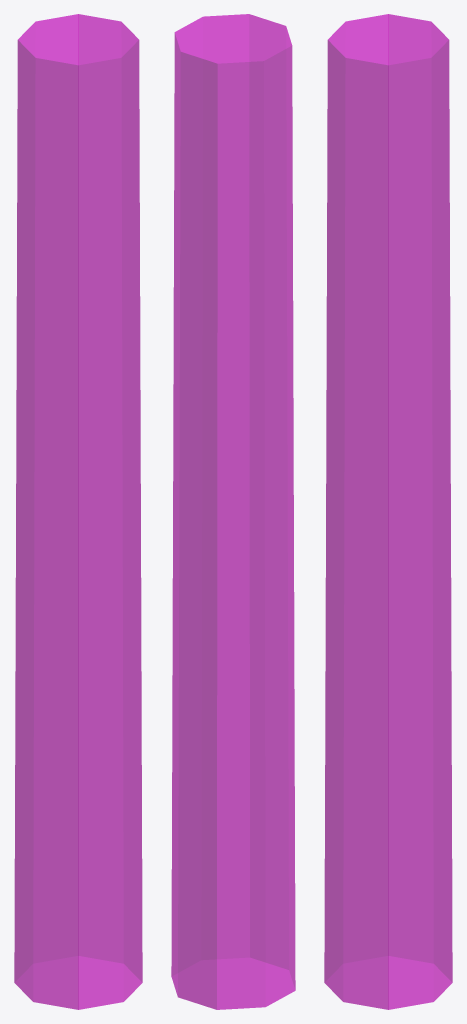
Rendered from SM_Veh_Ship_L_Mast_Back_02_Base_01_Collision.fbx.
3 views of the same model, side by side, from view 1: azimuth 90°, elevation 25°; view 2: azimuth 210°, elevation 25°; view 3: azimuth 270°, elevation 25° (orthographic).
Visible parts, largest first — view 1: SM_Veh_Ship_L_Mast_Back_02_Base_01_Collision; view 2: SM_Veh_Ship_L_Mast_Back_02_Base_01_Collision; view 3: SM_Veh_Ship_L_Mast_Back_02_Base_01_Collision.
Part boxes in pixels (<box>): SM_Veh_Ship_L_Mast_Back_02_Base_01_Collision: <box>14,14,142,1009</box>; SM_Veh_Ship_L_Mast_Back_02_Base_01_Collision: <box>171,14,295,1009</box>; SM_Veh_Ship_L_Mast_Back_02_Base_01_Collision: <box>324,14,452,1009</box>.
Bounding box in the file's own units: 110 × 889 × 110.
